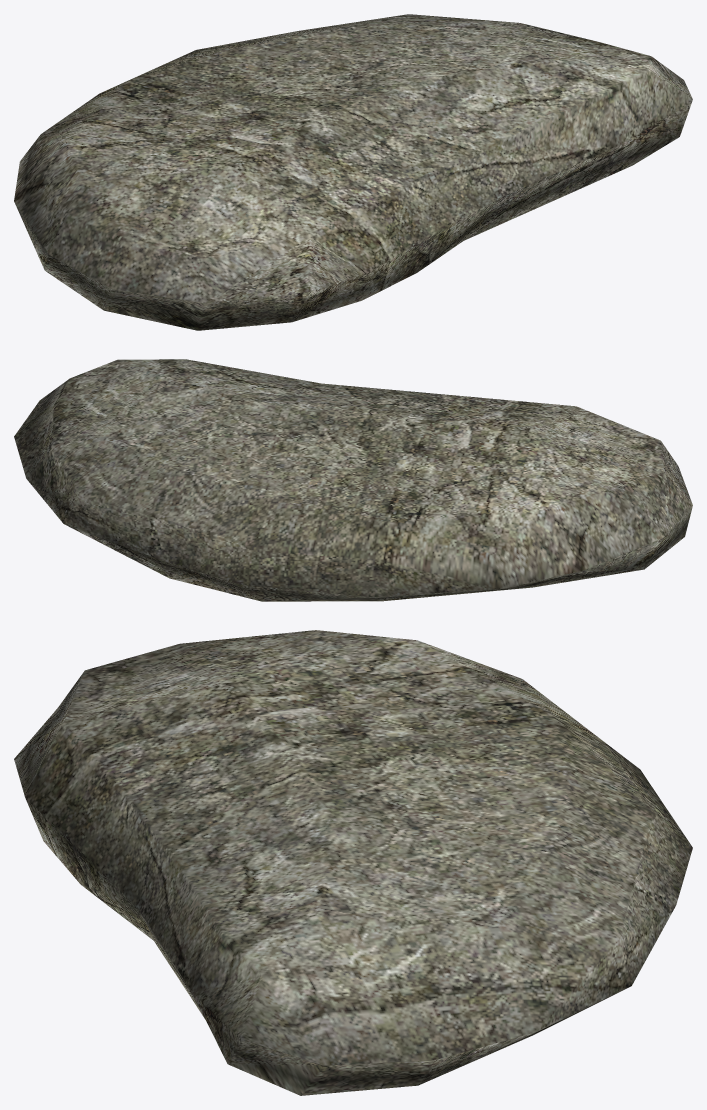
Rendered from general_obj_stone14.fbx.
The picture shows the model from 3 angles, top to bottom: view 1: azimuth 30°, elevation 25°; view 2: azimuth 150°, elevation 25°; view 3: azimuth 270°, elevation 25°; orthographic projection. The views are drawn at different scales.
Parts seen in each view (by area): view 1: Sphere01; view 2: Sphere01; view 3: Sphere01.
Part boxes in pixels (box(x1,y1,x2,y2)): Sphere01: box(14, 14, 692, 330); Sphere01: box(14, 359, 692, 601); Sphere01: box(14, 630, 692, 1095).
Size of the model in its own units: 6.72 by 1.06 by 4.74.
